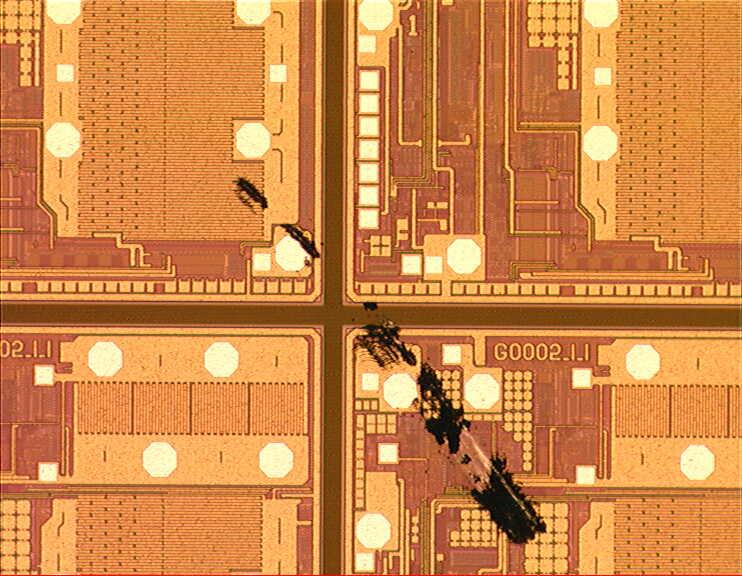SCRATCH: (228, 173, 553, 551)
